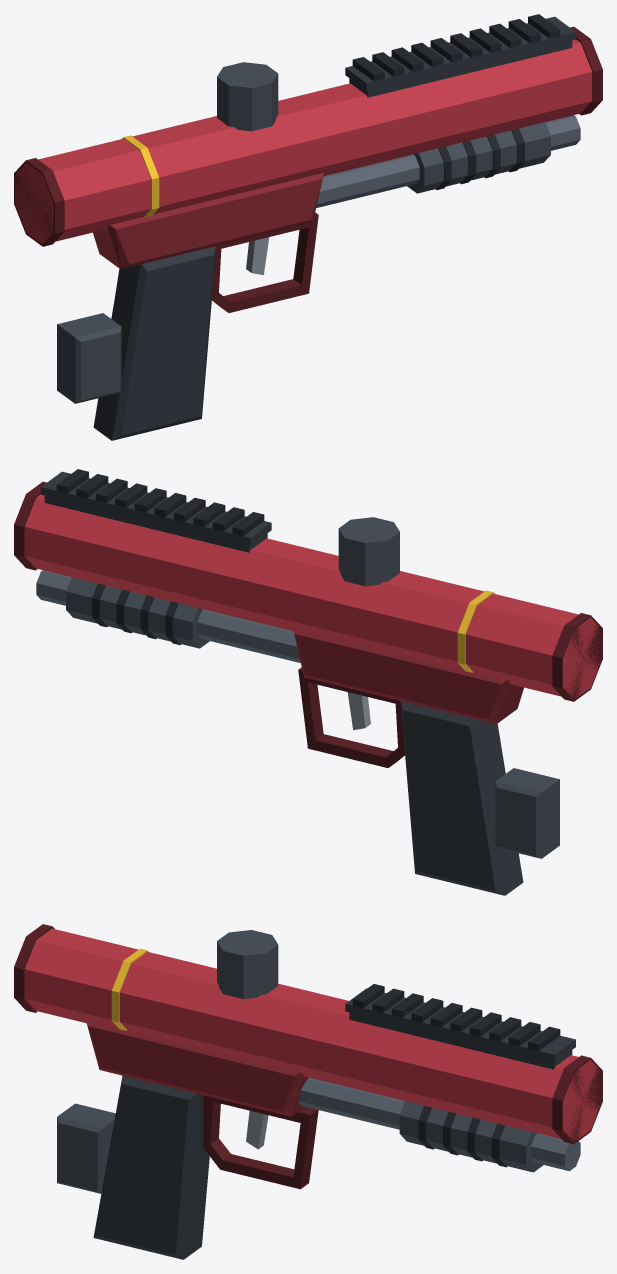
The model's file is phantom.glb.
3 renders of one model, top to bottom at view 1: azimuth 30°, elevation 25°; view 2: azimuth 150°, elevation 25°; view 3: azimuth 330°, elevation 25°, orthographic.
Parts seen in each view (by area): view 1: phantom_body; view 2: phantom_body; view 3: phantom_body.
Part boxes in pixels (<box>): phantom_body: <box>14,14,602,440</box>; phantom_body: <box>14,469,602,895</box>; phantom_body: <box>14,924,602,1259</box>.
Bounding box in the file's own units: 0.45 × 0.254 × 0.0582.
